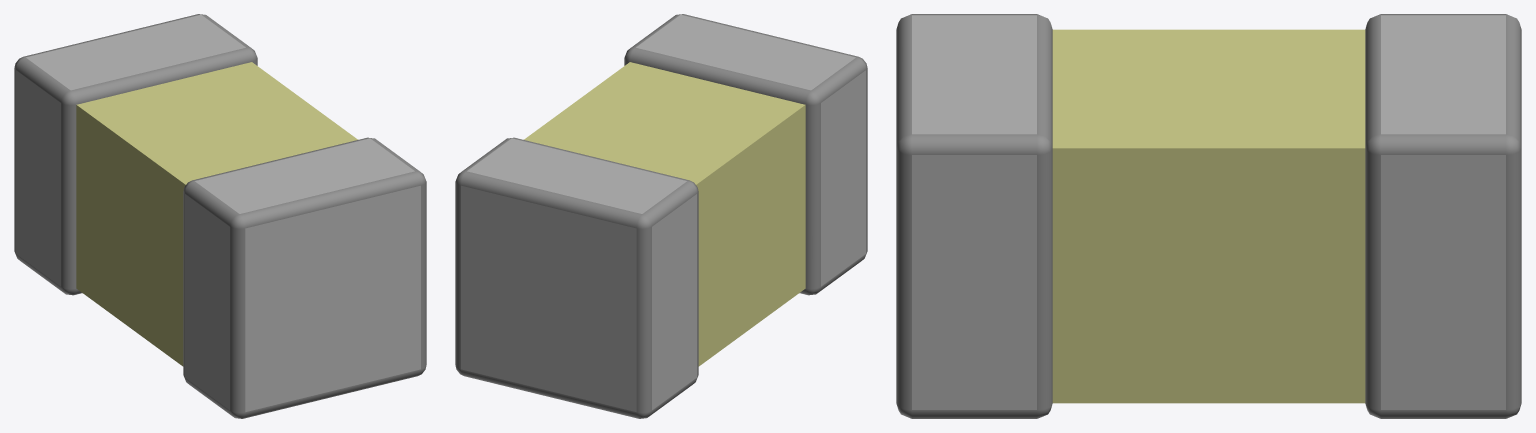
3 views of the same model, side by side, from view 1: azimuth 30°, elevation 25°; view 2: azimuth 150°, elevation 25°; view 3: azimuth 270°, elevation 25° (orthographic). The views are drawn at different scales.
Visible parts, largest first — view 1: Ceramic Capacitor; view 2: Ceramic Capacitor; view 3: Ceramic Capacitor.
Boxes of the visible parts, x1,y1,x2,y2 form: Ceramic Capacitor: (14, 14, 426, 418); Ceramic Capacitor: (455, 14, 867, 418); Ceramic Capacitor: (896, 14, 1521, 418).
Size of the model in its own units: 0.0003 by 0.0003 by 0.0006.
